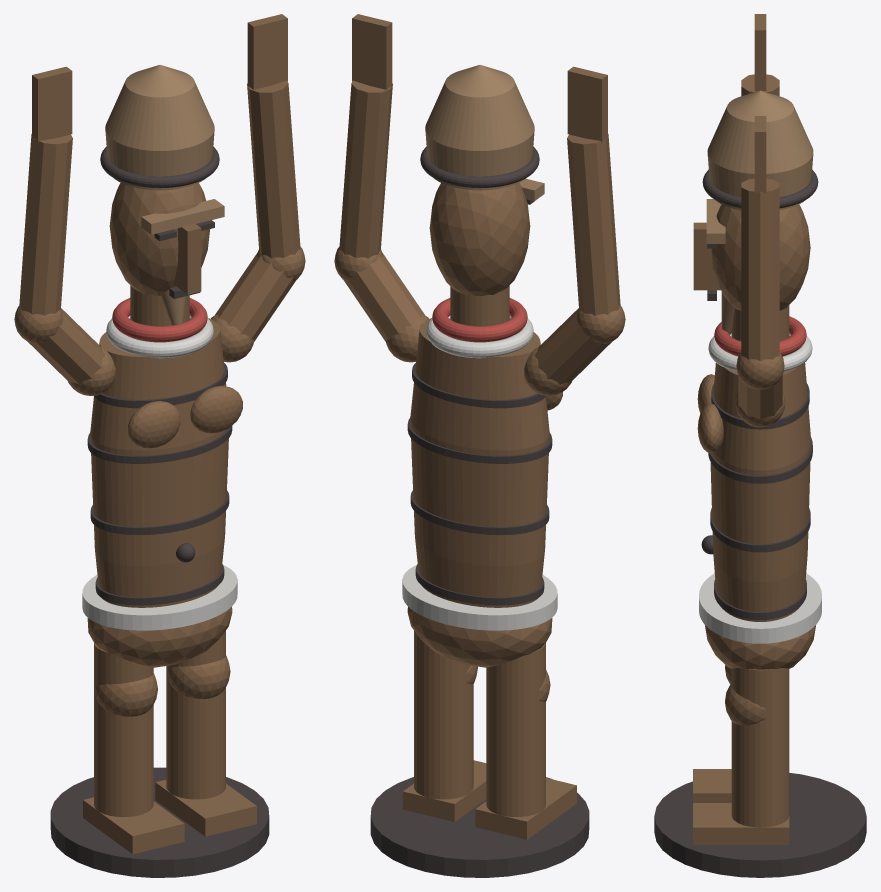
File: ancestor_figure.glb
The picture shows the model from 3 angles, left to right: view 1: azimuth 30°, elevation 25°; view 2: azimuth 150°, elevation 25°; view 3: azimuth 270°, elevation 25°; orthographic projection. The views are drawn at different scales.
Visible parts, largest first — view 1: geometry_1, geometry_13, geometry_0, geometry_26, geometry_37, geometry_32, geometry_23, geometry_6, geometry_2, geometry_20, geometry_30, geometry_25 (+23 smaller); view 2: geometry_1, geometry_0, geometry_13, geometry_6, geometry_26, geometry_23, geometry_37, geometry_32, geometry_2, geometry_20, geometry_30, geometry_33 (+16 smaller); view 3: geometry_1, geometry_0, geometry_23, geometry_13, geometry_32, geometry_6, geometry_20, geometry_25, geometry_2, geometry_30, geometry_28, geometry_31 (+17 smaller).
Boxes of the visible parts, bbox=[...] form: geometry_1: bbox=[90, 318, 228, 607]; geometry_13: bbox=[105, 65, 214, 190]; geometry_0: bbox=[50, 767, 269, 877]; geometry_26: bbox=[94, 643, 153, 816]; geometry_37: bbox=[19, 134, 72, 315]; geometry_32: bbox=[247, 80, 300, 258]; geometry_23: bbox=[166, 631, 225, 799]; geometry_6: bbox=[109, 183, 209, 295]; geometry_2: bbox=[87, 607, 232, 667]; geometry_20: bbox=[82, 565, 237, 630]; geometry_30: bbox=[215, 254, 295, 341]; geometry_25: bbox=[155, 779, 256, 836]; geometry_1: bbox=[410, 318, 549, 607]; geometry_0: bbox=[370, 777, 589, 877]; geometry_13: bbox=[425, 65, 534, 190]; geometry_6: bbox=[429, 183, 530, 295]; geometry_26: bbox=[486, 643, 545, 816]; geometry_23: bbox=[414, 631, 473, 799]; geometry_37: bbox=[567, 134, 620, 315]; geometry_32: bbox=[339, 80, 392, 258]; geometry_2: bbox=[407, 607, 552, 667]; geometry_20: bbox=[402, 565, 557, 630]; geometry_30: bbox=[344, 254, 424, 341]; geometry_33: bbox=[352, 14, 392, 89]; geometry_1: bbox=[710, 363, 810, 621]; geometry_0: bbox=[654, 773, 866, 877]; geometry_23: bbox=[731, 668, 789, 844]; geometry_13: bbox=[707, 90, 813, 210]; geometry_32: bbox=[741, 178, 779, 361]; geometry_6: bbox=[711, 204, 810, 310]; geometry_20: bbox=[699, 573, 821, 643]; geometry_25: bbox=[693, 803, 789, 844]; geometry_2: bbox=[705, 625, 815, 669]; geometry_30: bbox=[738, 375, 782, 419]; geometry_28: bbox=[693, 769, 731, 802]; geometry_31: bbox=[736, 352, 784, 389].
Bounding box in the file's own units: 0.33 × 0.87 × 0.22.
